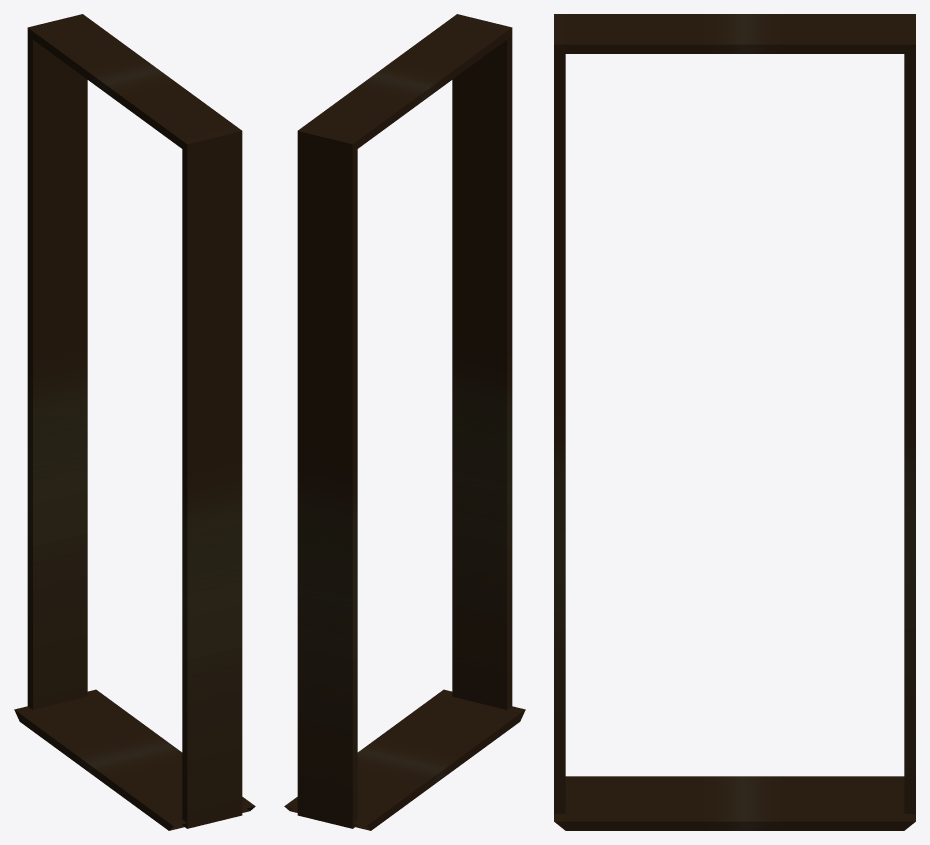
File: doorframe.obj
The picture shows the model from 3 angles, left to right: view 1: azimuth 30°, elevation 25°; view 2: azimuth 150°, elevation 25°; view 3: azimuth 270°, elevation 25°; orthographic projection. The views are drawn at different scales.
Parts seen in each view (by area): view 1: doorframe_Cube.001; view 2: doorframe_Cube.001; view 3: doorframe_Cube.001.
Boxes of the visible parts, left/top/right/bottom form: doorframe_Cube.001: left=14, top=14, right=255, bottom=830; doorframe_Cube.001: left=284, top=14, right=525, bottom=830; doorframe_Cube.001: left=554, top=14, right=915, bottom=830.
Size of the model in its own units: 0.2538 by 2.03 by 0.8553.
1 material, 1 textured.
